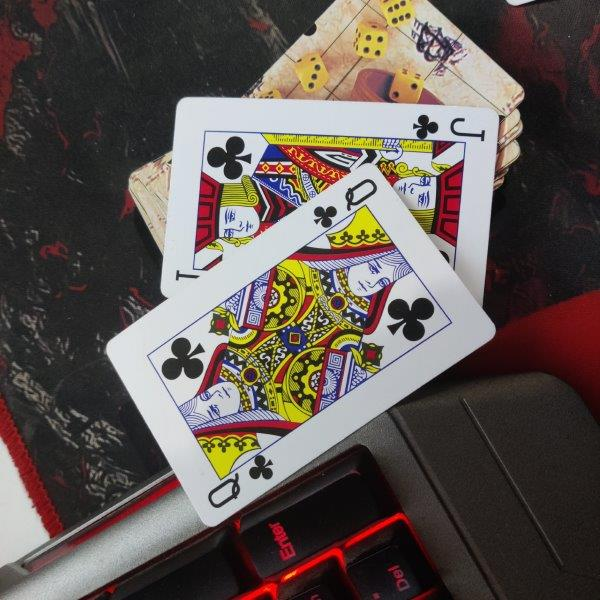Jack of Clubs: (160, 95, 499, 309)
Queen of Clubs: (106, 161, 498, 527)
